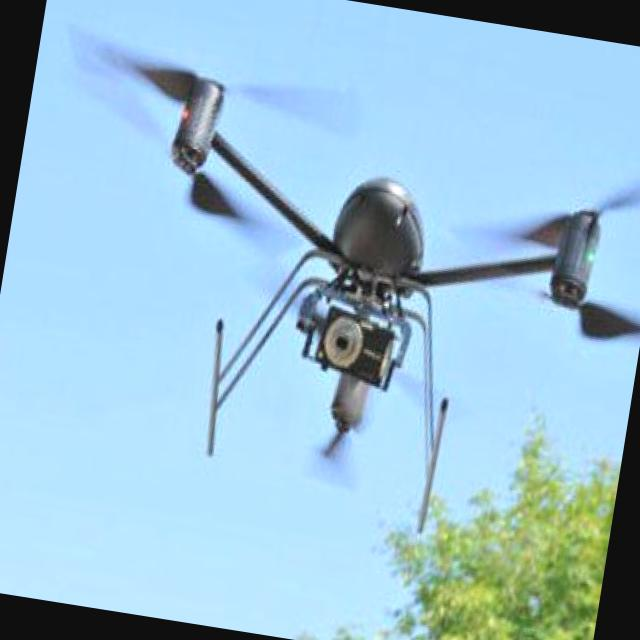drone: (114, 67, 618, 557)
